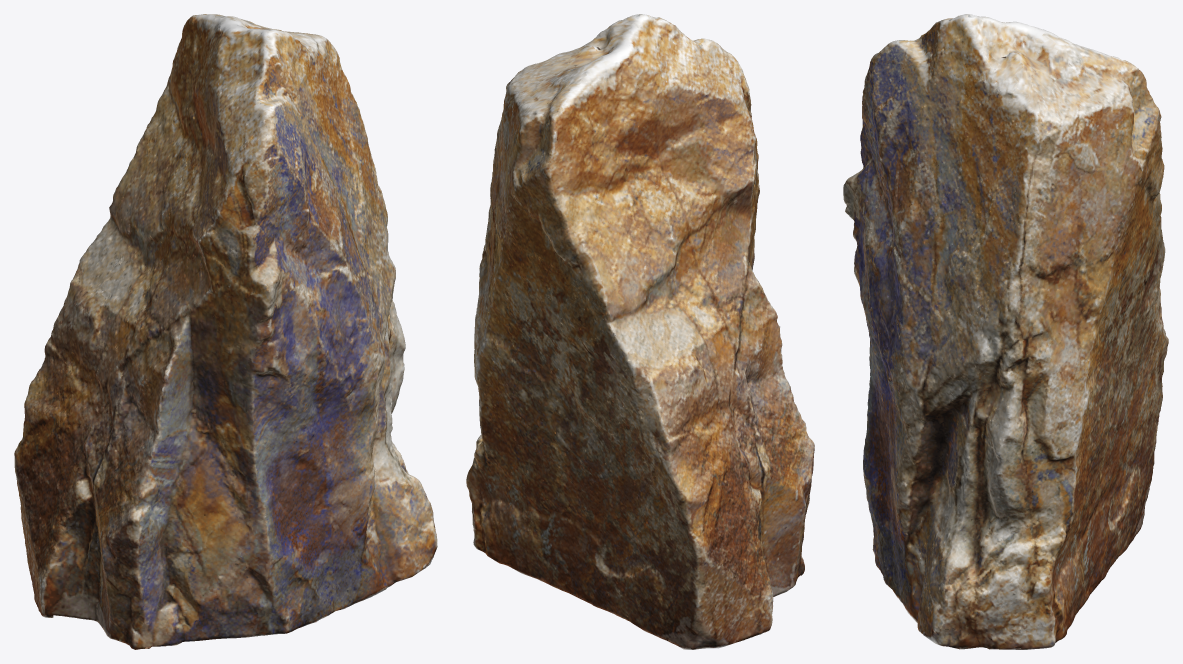
The model's file is sparse1.glb.
3 views of the same model, side by side, from view 1: azimuth 30°, elevation 25°; view 2: azimuth 150°, elevation 25°; view 3: azimuth 270°, elevation 25° (orthographic). The views are drawn at different scales.
Parts seen in each view (by area): view 1: Node; view 2: Node; view 3: Node.
Boxes of the visible parts, x1,y1,x2,y2 form: Node: (14, 14, 437, 649); Node: (466, 14, 814, 649); Node: (843, 14, 1168, 649).
Size of the model in its own units: 2.42 by 3.91 by 2.
1 material, 1 textured.
